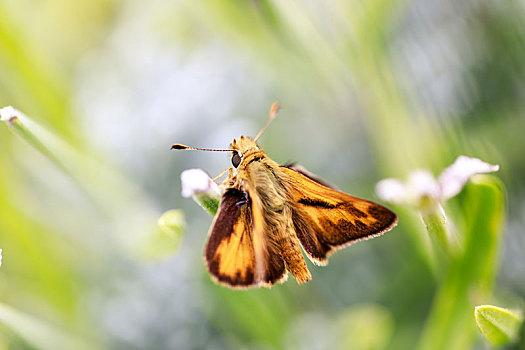Hesperiidae: (166, 100, 401, 294)
